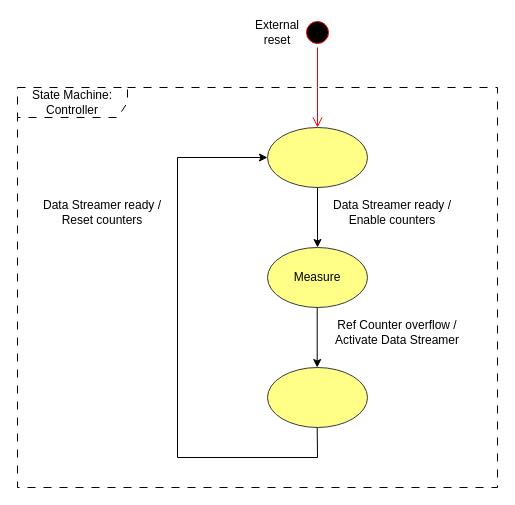
Some shapes in this 515 by 505 pixel diagram are drawn without their labels. Each missing label, with the box of its shape:
Display: (266, 366, 368, 428)
IDLE: (266, 126, 368, 188)
